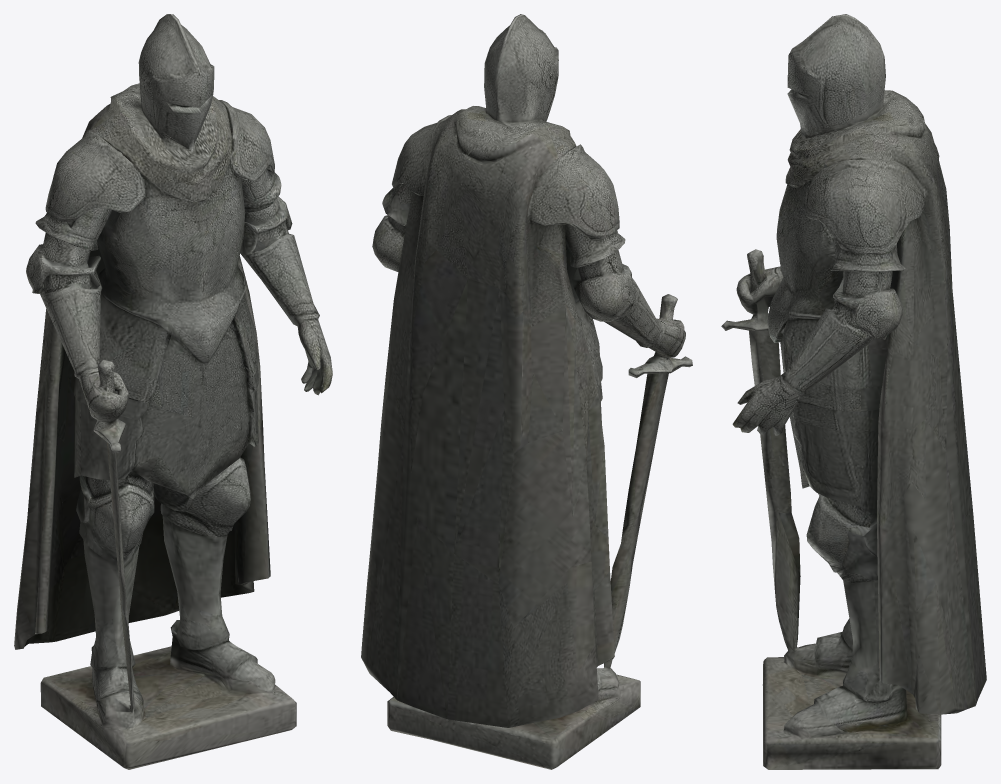
The model's file is statue.glb.
3 views of the same model, side by side, from view 1: azimuth 30°, elevation 25°; view 2: azimuth 150°, elevation 25°; view 3: azimuth 270°, elevation 25° (orthographic). The views are drawn at different scales.
Parts seen in each view (by area): view 1: Mesh_0; view 2: Mesh_0; view 3: Mesh_0.
Part boxes in pixels (x1,y1,x2,y2): Mesh_0: (14,14,332,769); Mesh_0: (361,14,692,769); Mesh_0: (721,14,986,769).
Size of the model in its own units: 0.7116 by 1.9 by 0.6389.
1 material, 1 textured.
